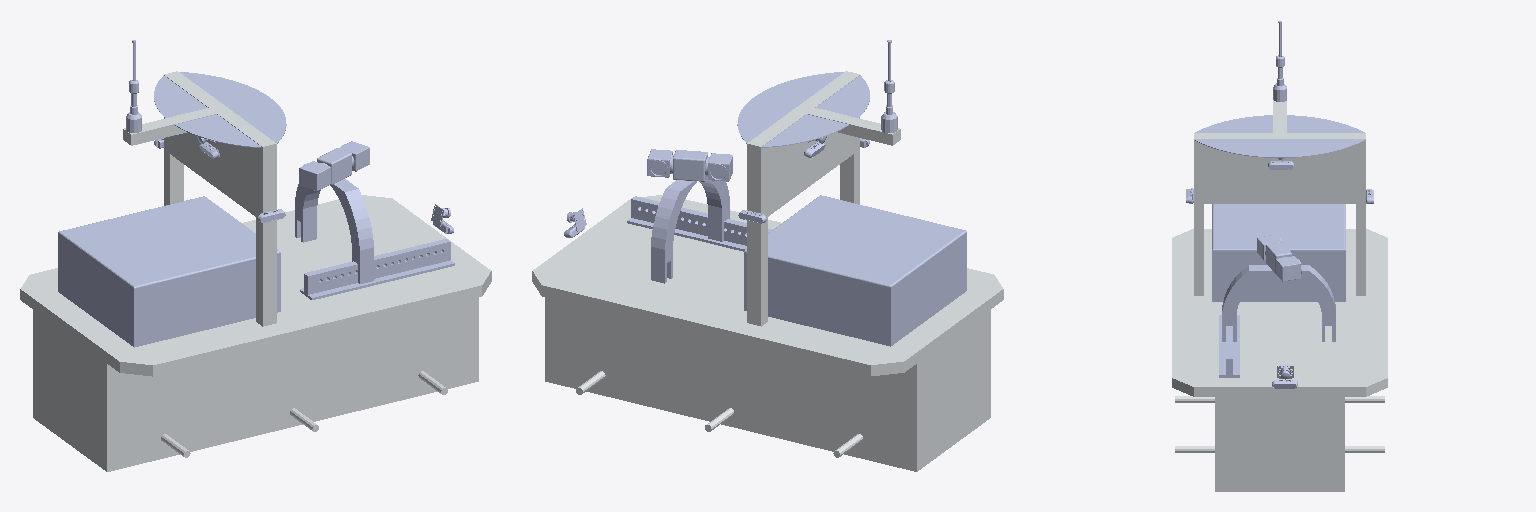
--- Render facts (derived) ---
3 views of the same robot in one strip: view 1: azimuth 30°, elevation 25°; view 2: azimuth 150°, elevation 25°; view 3: azimuth 270°, elevation 25° (orthographic).
Robot: perimeter — 35 links, 34 joints (8 continuous, 26 fixed); root link base_link; default pose: all joints at 0.
Links seen in each view (by area): view 1: base_link, computer, u_shade, left_bar, turret_base, turret_cam_1, turret, antena, turret_cam_2; view 2: base_link, computer, u_shade, turret_base, left_bar, turret, turret_cam_1, antena, turret_cam_2; view 3: base_link, computer, u_shade, turret_base, left_bar, turret_cam_2, antena.
Link boxes in pixels (<box>): base_link: <box>20,71,491,471</box>; computer: <box>58,196,280,347</box>; u_shade: <box>154,72,286,147</box>; left_bar: <box>300,239,454,299</box>; turret_base: <box>295,179,373,283</box>; turret_cam_1: <box>299,161,330,190</box>; turret: <box>317,148,351,184</box>; antena: <box>126,40,141,132</box>; turret_cam_2: <box>339,141,369,171</box>; base_link: <box>532,71,1003,471</box>; computer: <box>744,195,966,346</box>; u_shade: <box>737,72,869,147</box>; turret_base: <box>651,176,729,283</box>; left_bar: <box>627,196,771,251</box>; turret: <box>673,150,707,181</box>; turret_cam_1: <box>705,153,732,181</box>; antena: <box>881,40,897,132</box>; turret_cam_2: <box>647,149,673,177</box>; base_link: <box>1172,100,1387,491</box>; computer: <box>1212,204,1345,301</box>; u_shade: <box>1194,115,1365,157</box>; turret_base: <box>1222,265,1335,341</box>; left_bar: <box>1219,315,1239,377</box>; turret_cam_2: <box>1276,256,1301,281</box>; antena: <box>1273,21,1286,101</box>.
Size in the robot's own frame: 1.36 by 0.7622 by 1.32 metres.
17 mesh visuals loaded from 15 distinct referenced files (9 binary STL, 1 Collada DAE); not drawn: 9 (reference not matched to a file when rendering).

URDF robot description (perimeter):
<?xml version="1.0" encoding="utf-8"?>
<robot
  name="perimeter">
  <link
    name="base_link">
    <inertial>
      <origin
        xyz="0 0 0.2"
        rpy="0 0 0" />
      <mass
        value="10" />
      <inertia
        ixx="0.01"
        ixy="0"
        ixz="0"
        iyy="0.01"
        iyz="0"
        izz="0.01" />
    </inertial>
    <visual>
      <origin
        xyz="0 0 0.2"
        rpy="0 0 0" />
      <geometry>
        <mesh
          filename="package://perimeter/meshes/base_link.dae" />
      </geometry>
      <material
        name="">
        <color
          rgba="0.898039215686275 0.917647058823529 0.929411764705882 1" />
      </material>
    </visual>
    <collision>
      <origin
        xyz="0 0 0.2"
        rpy="0 0 0" />
      <geometry>
        <box size="1.2 0.5 0.3" />
        <!--box size="1.32116 0.762207 0.51628 " /-->
      </geometry>
    </collision>
  </link>

  <link
    name="front_right">
    <inertial>
      <origin
        xyz="0 0 0"
        rpy="0 0 0" />
      <mass
        value="0.5" />
      <inertia
        ixx="0.01"
        ixy="0"
        ixz="0"
        iyy="0.01"
        iyz="0"
        izz="0.01" />
    </inertial>
    <visual>
      <origin
        xyz="0 0 0"
        rpy="0 0 0" />
      <geometry>
        <mesh
          filename="package://perimeter/meshes/right_tyre.stl" />
      </geometry>
      <material
        name="">
        <color
          rgba="0.792156862745098 0.819607843137255 0.933333333333333 1" />
      </material>
    </visual>
    <collision>
      <origin
        xyz="0 0 0"
        rpy="0 1.57 1.57" />
      <geometry>
	  <cylinder length="0.156978" radius="0.1933135"/>
      </geometry>
    </collision>
  </link>
  <joint
    name="front_right_joint"
    type="continuous">
    <origin
      xyz="-0.457 0.31 0.217"
      rpy="0 0 0" />
    <parent
      link="base_link" />
    <child
      link="front_right" />
    <axis
      xyz="0 1 0" />
  </joint>

  <link
    name="front_left">
    <inertial>
      <origin
        xyz="0 0 0"
        rpy="0 0 0" />
      <mass
        value="0.5" />
      <inertia
        ixx="0.01"
        ixy="0"
        ixz="0"
        iyy="0.01"
        iyz="0"
        izz="0.01"/>
    </inertial>
    <visual>
      <origin
        xyz="0 0 0"
        rpy="0 0 0" />
      <geometry>
        <mesh
          filename="package://perimeter/meshes/left_tyre.stl" />
      </geometry>
      <material
        name="">
        <color
          rgba="0.792156862745098 0.819607843137255 0.933333333333333 1" />
      </material>
    </visual>
    <collision>
      <origin
        xyz="0 0 0"
        rpy="0 1.57 1.57" />
      <geometry>
	  <cylinder length="0.156978" radius="0.1933135"/>
      </geometry>
    </collision>
  </link>
  <joint
    name="front_left_joint"
    type="continuous">
    <origin
      xyz="-0.457 -0.312 0.217"
      rpy="0 0 0" />
    <parent
      link="base_link" />
    <child
      link="front_left" />
    <axis
      xyz="0 1 0" />
  </joint>
  <link
    name="middle_right">
    <inertial>
      <origin
        xyz="0 0 0"
        rpy="0 0 0" />
      <mass
        value="0.5" />
      <inertia
        ixx="0.01"
        ixy="0"
        ixz="0"
        iyy="0.01"
        iyz="0"
        izz="0.01" />
    </inertial>
    <visual>
      <origin
        xyz="0 0 0"
        rpy="0 0 0" />
      <geometry>
        <mesh
          filename="package://perimeter/meshes/right_tyre.stl" />
      </geometry>
      <material
        name="">
        <color
          rgba="0.792156862745098 0.819607843137255 0.933333333333333 1" />
      </material>
    </visual>
    <collision>
      <origin
        xyz="0 0 0"
        rpy="0 1.57 1.57" />
      <geometry>
	  <cylinder length="0.156978" radius="0.1933135"/>
      </geometry>
    </collision>
  </link>
  <joint
    name="middle_right_joint"
    type="continuous">
    <origin
      xyz="0 0.31 0.19796"
      rpy="0 0 0" />
    <parent
      link="base_link" />
    <child
      link="middle_right" />
    <axis
      xyz="0 1 0" />
  </joint>
  <link
    name="middle_left">
    <inertial>
      <origin
        xyz="0 0 0"
        rpy="0 0 0" />
      <mass
        value="0.5" />
      <inertia
        ixx="0.01"
        ixy="0"
        ixz="0"
        iyy="0.01"
        iyz="0"
        izz="0.01" />
    </inertial>
    <visual>
      <origin
        xyz="0 0 0"
        rpy="0 0 0" />
      <geometry>
        <mesh
          filename="package://perimeter/meshes/left_tyre.stl" />
      </geometry>
      <material
        name="">
        <color
          rgba="0.792156862745098 0.819607843137255 0.933333333333333 1" />
      </material>
    </visual>
    <collision>
      <origin
        xyz="0 0 0"
        rpy="0 1.57 1.57" />
      <geometry>
	  <cylinder length="0.156978" radius="0.1933135"/>
      </geometry>
    </collision>
  </link>
  <joint
    name="middle_left_joint"
    type="continuous">
    <origin
      xyz="0 -0.312 0.19796"
      rpy="0 0 0" />
    <parent
      link="base_link" />
    <child
      link="middle_left" />
    <axis
      xyz="0 1 0" />
  </joint>
  <link
    name="back_right">
    <inertial>
      <origin
        xyz="0 0 0"
        rpy="0 0 0" />
      <mass
        value="0.5" />
      <inertia
        ixx="0.01"
        ixy="0"
        ixz="0"
        iyy="0.01"
        iyz="0"
        izz="0.01" />
    </inertial>
    <visual>
      <origin
        xyz="0 0 0"
        rpy="0 0 0" />
      <geometry>
        <mesh
          filename="package://perimeter/meshes/right_tyre.stl" />
      </geometry>
      <material
        name="">
        <color
          rgba="0.792156862745098 0.819607843137255 0.933333333333333 1" />
      </material>
    </visual>
    <collision>
      <origin
        xyz="0 0 0"
        rpy="0 1.57 1.57" />
      <geometry>
	  <cylinder length="0.156978" radius="0.1933135"/>
      </geometry>
    </collision>
  </link>
  <joint
    name="back_right_joint"
    type="continuous">
    <origin
      xyz="0.457 0.31 0.217"
      rpy="0 0 0" />
    <parent
      link="base_link" />
    <child
      link="back_right" />
    <axis
      xyz="0 1 0" />
  </joint>
  <link
    name="back_left">
    <inertial>
      <origin
        xyz="0 0 0"
        rpy="0 0 0" />
      <mass
        value="0.5" />
      <inertia
        ixx="0.01"
        ixy="0"
        ixz="0"
        iyy="0.01"
        iyz="0"
        izz="0.01"/>
    </inertial>
    <visual>
      <origin
        xyz="0 0 0"
        rpy="0 0 0" />
      <geometry>
        <mesh
          filename="package://perimeter/meshes/left_tyre.stl" />
      </geometry>
      <material
        name="">
        <color
          rgba="0.792156862745098 0.819607843137255 0.933333333333333 1" />
      </material>
    </visual>
    <collision>
      <origin
        xyz="0 0 0"
        rpy="0 1.57 1.57" />
      <geometry>
	  <cylinder length="0.156978" radius="0.1933135"/>
      </geometry>
    </collision>
  </link>
  <joint
    name="back_left_joint"
    type="continuous">
    <origin
      xyz="0.457 -0.312 0.217"
      rpy="0 0 0"  />
    <parent
      link="base_link" />
    <child
      link="back_left" />
    <axis
      xyz="0 1 0" />
  </joint>
  <link
    name="right_bar">
    <inertial>
      <origin
        xyz="0 0 0"
        rpy="0 0 0" />
      <mass
        value="0.5" />
      <inertia
        ixx="0.01"
        ixy="0"
        ixz="0"
        iyy="0.01"
        iyz="0"
        izz="0.01"/>
    </inertial>
    <visual>
      <origin
        xyz="0 0 0"
        rpy="0 0 0" />
      <geometry>
        <mesh
          filename="package://perimeter/meshes/right_bar.STL" />
      </geometry>
      <material
        name="">
        <color
          rgba="0.792156862745098 0.819607843137255 0.933333333333333 1" />
      </material>
    </visual>
    <collision>
      <origin
        xyz="0 0 0"
        rpy="0 0 0" />
      <geometry>
        <mesh
          filename="package://perimeter/meshes/right_bar.STL" />
      </geometry>
    </collision>
  </link>
  <joint
    name="right_bar_to_base_link"
    type="fixed">
    <origin
      xyz="0.32 0.191 0.55"
      rpy="0 0 0" />
    <parent
      link="base_link" />
    <child
      link="right_bar" />
    <axis
      xyz="0 0 0" />
  </joint>
  <link
    name="left_bar">
    <inertial>
      <origin
        xyz="0 0 0"
        rpy="0 0 0" />
      <mass
        value="0.5" />
      <inertia
        ixx="0.01"
        ixy="0"
        ixz="0"
        iyy="0.01"
        iyz="0"
        izz="0.01" />
    </inertial>
    <visual>
      <origin
        xyz="0 0 0"
        rpy="0 0 0" />
      <geometry>
        <mesh
          filename="package://perimeter/meshes/left_bar.STL" />
      </geometry>
      <material
        name="">
        <color
          rgba="0.792156862745098 0.819607843137255 0.933333333333333 1" />
      </material>
    </visual>
    <collision>
      <origin
        xyz="0 0 0"
        rpy="0 0 0" />
      <geometry>
        <mesh
          filename="package://perimeter/meshes/left_bar.STL" />
      </geometry>
    </collision>
  </link>
  <joint
    name="left_bar_to_base_link"
    type="fixed">
    <origin
      xyz="0.34  -0.2 0.55"
      rpy="0 0 3.14"  />
    <parent
      link="base_link" />
    <child
      link="left_bar" />
    <axis
      xyz="0 0 0" />
  </joint>
  <link
    name="turret_base">
    <inertial>
      <origin
        xyz="0 0 0"
        rpy="0 0 0" />
      <mass
        value="0.5" />
      <inertia
        ixx="0.01"
        ixy="0"
        ixz="0"
        iyy="0.01"
        iyz="0"
        izz="0.01" />
    </inertial>
    <visual>
      <origin
        xyz="0 0 0"
        rpy="0 0 0" />
      <geometry>
        <mesh
          filename="package://perimeter/meshes/turret_base.STL" />
      </geometry>
      <material
        name="">
        <color
          rgba="0.792156862745098 0.819607843137255 0.933333333333333 1" />
      </material>
    </visual>
    <collision>
      <origin
        xyz="0 0 0"
        rpy="0 0 0" />
      <geometry>
        <mesh
          filename="package://perimeter/meshes/turret_base.STL" />
      </geometry>
    </collision>
  </link>
  <joint
    name="turret_base_to_left_bar"
    type="fixed">
    <origin
      xyz="0.0721233224999401 -0.265017680995475 0.0126999999999999"
      rpy="0 0 -1.5707963267949" />
    <parent
      link="left_bar" />
    <child
      link="turret_base" />
    <axis
      xyz="0 0 0" />
  </joint>
  <link
    name="turret">
    <inertial>
      <origin
        xyz="0 0 0"
        rpy="0 0 0" />
      <mass
        value="0.2" />
      <inertia
        ixx="0.01"
        ixy="0"
        ixz="0"
        iyy="0.01"
        iyz="0"
        izz="0.01" />
    </inertial>
    <visual>
      <origin
        xyz="0 0 0"
        rpy="0 0 0" />
      <geometry>
        <mesh
          filename="package://perimeter/meshes/turret.STL" />
      </geometry>
      <material
        name="">
        <color
          rgba="0.792156862745098 0.819607843137255 0.933333333333333 1" />
      </material>
    </visual>
    <collision>
      <origin
        xyz="0 0 0"
        rpy="0 0 0" />
      <geometry>
        <mesh
          filename="package://perimeter/meshes/turret.STL" />
      </geometry>
    </collision>
  </link>
  <joint
    name="turret_joint"
    type="fixed">
    <origin
      xyz="-0.0688975000000001 -0.00975178571428559 0.262110127691648"
      rpy="0 0 1.93006449817936" />
    <parent
      link="turret_base" />
    <child
      link="turret" />
    <axis
      xyz="0 0 1" />
  </joint>

<link
    name="turret_cam_1">
    <inertial>
      <origin
        xyz="0 0 0"
        rpy="0 0 0" />
      <mass
        value="0.2" />
      <inertia
        ixx="0.01"
        ixy="0"
        ixz="0"
        iyy="0.01"
        iyz="0"
        izz="0.01" />
    </inertial>
    <visual>
      <origin
        xyz="0 0 0"
        rpy="0 0 1.57" />
      <geometry>
        <mesh
          filename="package://perimeter/meshes/turret_cam.STL" />
      </geometry>
      <material
        name="">
        <color
          rgba="0.792156862745098 0.819607843137255 0.933333333333333 1" />
      </material>
    </visual>
    <collision>
      <origin
        xyz="0 0 0"
        rpy="0 0 0" />
      <geometry>
        <mesh
          filename="package://perimeter/meshes/turret_cam.STL" />
      </geometry>
    </collision>
  </link>
  <joint
    name="turret_cam_1_joint"
    type="continuous">
    <origin
      xyz="0.05 0 0.052"
      rpy="0 1.57 0" />
    <parent
      link="turret" />
    <child
      link="turret_cam_1" />
    <axis
      xyz="0 0 1" />
  </joint>

<link
    name="turret_cam_2">
    <inertial>
      <origin
        xyz="0 0 0"
        rpy="0 0 0" />
      <mass
        value="0.2" />
      <inertia
        ixx="0.01"
        ixy="0"
        ixz="0"
        iyy="0.01"
        iyz="0"
        izz="0.01" />
    </inertial>
    <visual>
      <origin
        xyz="0 0 0"
        rpy="0 0 1.57" />
      <geometry>
        <mesh
          filename="package://perimeter/meshes/turret_cam.STL" />
      </geometry>
      <material
        name="">
        <color
          rgba="0.792156862745098 0.819607843137255 0.933333333333333 1" />
      </material>
    </visual>
    <collision>
      <origin
        xyz="0 0 0"
        rpy="0 0 0" />
      <geometry>
        <mesh
          filename="package://perimeter/meshes/turret_cam.STL" />
      </geometry>
    </collision>
  </link>
  <joint
    name="turret_cam_2_joint"
    type="continuous">
    <origin
      xyz="-0.05 0 0.052"
      rpy="0 -1.57 0" />
    <parent
      link="turret" />
    <child
      link="turret_cam_2" />
    <axis
      xyz="0 0 1" />
  </joint>

  <link
    name="antena">
    <inertial>
      <origin
        xyz="0 0 0"
        rpy="0 0 0" />
      <mass
        value="0.1" />
      <inertia
        ixx="0.01"
        ixy="0"
        ixz="0"
        iyy="0.01"
        iyz="0"
        izz="0.01" />
    </inertial>
    <visual>
      <origin
        xyz="0 0 0"
        rpy="0 0 0" />
      <geometry>
        <mesh
          filename="package://perimeter/meshes/antena.STL" />
      </geometry>
      <material
        name="">
        <color
          rgba="0.792156862745098 0.819607843137255 0.933333333333333 1" />
      </material>
    </visual>
    <collision>
      <origin
        xyz="0 0 0"
        rpy="0 0 0" />
      <geometry>
          <box size="0.001 0.001 0.001"/>
      </geometry>
    </collision>
  </link>
  <joint
    name="antena_joint"
    type="fixed">
    <origin
      xyz="-0.44 0.025 1.164"
      rpy="0 0 0" />
    <parent
      link="base_link" />
    <child
      link="antena" />
    <axis
      xyz="0 0 0" />
  </joint>

  <link
    name="front_fish_eye">
    <inertial>
      <origin
        xyz="0 0 0"
        rpy="0 0 0" />
      <mass
        value="0.1" />
      <inertia
        ixx="0.01"
        ixy="0"
        ixz="0"
        iyy="0.01"
        iyz="0"
        izz="0.01" />
    </inertial>
    <visual>
      <origin
        xyz="0 0 0"
        rpy="0 0 0" />
      <geometry>
        <mesh
          filename="package://perimeter/meshes/fish_eye.STL" />
      </geometry>
      <material
        name="">
        <color
          rgba="0.792156862745098 0.819607843137255 0.933333333333333 1" />
      </material>
    </visual>
    <collision>
      <origin
        xyz="0 0 0"
        rpy="0 0 0" />
      <geometry>
          <box size="0.001 0.001 0.001"/>
      </geometry>
    </collision>
  </link>
  <joint
    name="front_fish_eye_joint"
    type="fixed">
    <origin
      xyz="0.66 -0.01 .64"
      rpy="3.40339 0 1.57" />
    <parent
      link="base_link" />
    <child
      link="front_fish_eye" />
    <axis
      xyz="0 0 0" />
  </joint>
  
    <joint name="front_fish_eye_optical_joint" type="fixed">
      <origin xyz="0 0 0" rpy="-1.570795 0.0 -1.570795" />
      <parent link="front_fish_eye" />
      <child link="front_fish_eye_optical_frame"/>
    </joint>
  
    <link name="front_fish_eye_optical_frame"/>
    
    <gazebo reference="front_fish_eye">
      <sensor type="camera" name="front_fish_eye_camera_sensor">
        <update_rate>10</update_rate>
        <camera>
          <horizontal_fov>1.570795</horizontal_fov>
          <image>
            <format>R8G8B8</format>
            <width>740</width>
            <height>480</height>
          </image>
          <clip>
            <near>0.01</near>
            <far>100</far>
          </clip>
        </camera>

        <plugin name="front_fish_eye_camera_controller" filename="libgazebo_ros_camera.so">
          <cameraName>front_fish_eye</cameraName>
          <imageTopicName>camera/image</imageTopicName>
          <cameraInfoTopicName>camera/camera_info</cameraInfoTopicName>
          <frameName>front_fish_eye_optical_frame</frameName>
        </plugin>
      </sensor>
    </gazebo>

    <link
    name="front_435">
    <inertial>
      <origin
        xyz="0 0 0"
        rpy="0 0 0" />
      <mass
        value="0.1" />
      <inertia
        ixx="0.01"
        ixy="0"
        ixz="0"
        iyy="0.01"
        iyz="0"
        izz="0.01" />
    </inertial>
    <visual>
      <origin
        xyz="0 0 0"
        rpy="0 0 0" />
      <geometry>
        <mesh
          filename="package://perimeter/meshes/D435.STL" />
      </geometry>
      <material
        name="">
        <color
          rgba="0.792156862745098 0.819607843137255 0.933333333333333 1" />
      </material>
    </visual>
    <collision>
      <origin
        xyz="0 0 0"
        rpy="0 0 0" />
      <geometry>
          <box size="0.001 0.001 0.001"/>
      </geometry>
    </collision>
  </link>
  <joint
    name="front_435_joint"
    type="fixed">
    <origin
      xyz="0.66 -0.03 0.563"
      rpy="1.8326 0 1.57" />
    <parent
      link="base_link" />
    <child
      link="front_435" />
    <axis
      xyz="0 0 0" />
  </joint>

    <joint name="front_435_optical_joint" type="fixed">
      <origin xyz="0 0 0" rpy="-1.570795 0.0 -1.570795" />
      <parent link="front_435" />
      <child link="front_435_optical_frame"/>
    </joint>
  
    <link name="front_435_optical_frame"/>
    
    <gazebo reference="front_435">
      <sensor type="camera" name="front_435_camera_sensor">
        <update_rate>10</update_rate>
        <camera>
          <horizontal_fov>1.570795</horizontal_fov>
          <image>
            <format>R8G8B8</format>
            <width>740</width>
            <height>480</height>
          </image>
          <clip>
            <near>0.01</near>
            <far>100</far>
          </clip>
        </camera>

        <plugin name="front_435_camera_controller" filename="libgazebo_ros_camera.so">
          <cameraName>front_435</cameraName>
          <imageTopicName>camera/image</imageTopicName>
          <cameraInfoTopicName>camera/camera_info</cameraInfoTopicName>
          <frameName>front_435_optical_frame</frameName>
        </plugin>
      </sensor>
    </gazebo>
  
     <link
    name="computer">
    <inertial>
      <origin
        xyz="0 0 0"
        rpy="0 0 0" />
      <mass
        value="4" />
      <inertia
        ixx="0.01"
        ixy="0"
        ixz="0"
        iyy="0.01"
        iyz="0"
        izz="0.01" />
    </inertial>
    <visual>
      <origin
        xyz="0 0 0"
        rpy="0 0 0" />
      <geometry>
        <mesh
          filename="package://perimeter/meshes/computer.STL" />
      </geometry>
      <material
        name="">
        <color
          rgba="0.792156862745098 0.819607843137255 0.933333333333333 1" />
      </material>
    </visual>
    <collision>
      <origin
        xyz="0 0 0"
        rpy="0 0 0" />
      <geometry>
          <box size="0.001 0.001 0.001"/>
      </geometry>
    </collision>
  </link>
  <joint
    name="computer_joint"
    type="fixed">
    <origin
      xyz="-0.31 -0.01 0.55"
      rpy="0 0 0" />
    <parent
      link="base_link" />
    <child
      link="computer" />
    <axis
      xyz="0 0 0" />
  </joint> 

     <link
    name="u_shade">
    <inertial>
      <origin
        xyz="0 0 0"
        rpy="0 0 0" />
      <mass
        value="0.1" />
      <inertia
        ixx="0.01"
        ixy="0"
        ixz="0"
        iyy="0.01"
        iyz="0"
        izz="0.01" />
    </inertial>
    <visual>
      <origin
        xyz="0 0 0"
        rpy="0 0 0" />
      <geometry>
        <mesh
          filename="package://perimeter/meshes/u_shade.STL" />
      </geometry>
      <material
        name="">
        <color
          rgba="0.792156862745098 0.819607843137255 0.933333333333333 1" />
      </material>
    </visual>
    <collision>
      <origin
        xyz="0 0 0"
        rpy="0 0 0" />
      <geometry>
        <mesh
          filename="package://perimeter/meshes/u_shade.STL" />
      </geometry>
    </collision>
  </link>
  <joint
    name="u_shade_joint"
    type="fixed">
    <origin
      xyz="-0.124 0.015 1.16"
      rpy="0 0 0" />
    <parent
      link="base_link" />
    <child
      link="u_shade" />
    <axis
      xyz="0 0 0" />
  </joint>

    

     <link
    name="up_front_fish_eye">
    <inertial>
      <origin
        xyz="0 0 0"
        rpy="0 0 0" />
      <mass
        value="0.1" />
      <inertia
        ixx="0.01"
        ixy="0"
        ixz="0"
        iyy="0.01"
        iyz="0"
        izz="0.01" />
    </inertial>
    <visual>
      <origin
        xyz="0 0 0"
        rpy="0 0 0" />
      <geometry>
        <mesh
          filename="package://perimeter/meshes/fish_eye.STL" />
      </geometry>
      <material
        name="">
        <color
          rgba="0.792156862745098 0.819607843137255 0.933333333333333 1" />
      </material>
    </visual>
    <collision>
      <origin
        xyz="0 0 0"
        rpy="0 0 0" />
      <geometry>
        <mesh
          filename="package://perimeter/meshes/fish_eye.STL" />
      </geometry>
    </collision>
  </link>
  <joint
    name="up_front_fish_eye_joint"
    type="fixed">
    <origin
      xyz="-0.1 0.03 1.1"
      rpy="0 0 -1.57" />
    <parent
      link="base_link" />
    <child
      link="up_front_fish_eye" />
    <axis
      xyz="0 0 0" />
  </joint>

    <joint name="up_front_fish_eye_optical_joint" type="fixed">
      <origin xyz="0 0 0" rpy="-1.570795 0.0 -1.570795" />
      <parent link="up_front_fish_eye" />
      <child link="up_front_fish_eye_optical_frame"/>
    </joint>
  
    <link name="up_front_fish_eye_optical_frame"/>
    
    <gazebo reference="up_front_fish_eye">
      <sensor type="camera" name="up_front_fish_eye_camera_sensor">
        <update_rate>10</update_rate>
        <camera>
          <horizontal_fov>1.570795</horizontal_fov>
          <image>
            <format>R8G8B8</format>
            <width>740</width>
            <height>480</height>
          </image>
          <clip>
            <near>0.01</near>
            <far>100</far>
          </clip>
        </camera>

        <plugin name="up_front_fish_eye_camera_controller" filename="libgazebo_ros_camera.so">
          <cameraName>up_front_fish_eye</cameraName>
          <imageTopicName>camera/image</imageTopicName>
          <cameraInfoTopicName>camera/camera_info</cameraInfoTopicName>
          <frameName>up_front_fish_eye_optical_frame</frameName>
        </plugin>
      </sensor>
    </gazebo>


     <link
    name="up_front_d435">
    <inertial>
      <origin
        xyz="0 0 0"
        rpy="0 0 0" />
      <mass
        value="0.1" />
      <inertia
        ixx="0.01"
        ixy="0"
        ixz="0"
        iyy="0.01"
        iyz="0"
        izz="0.01" />
    </inertial>
    <visual>
      <origin
        xyz="0 0 0"
        rpy="0 0 0" />
      <geometry>
        <mesh
          filename="package://perimeter/meshes/D435.STL" />
      </geometry>
      <material
        name="">
        <color
          rgba="0.792156862745098 0.819607843137255 0.933333333333333 1" />
      </material>
    </visual>
    <collision>
      <origin
        xyz="0 0 0"
        rpy="0 0 0" />
      <geometry>
        <mesh
          filename="package://perimeter/meshes/D435.STL" />
      </geometry>
    </collision>
  </link>
  <joint
    name="up_front_d435_joint"
    type="fixed">
    <origin
      xyz="-0.1 0.05 1.08"
      rpy="-1.57 0 -1.57" />
    <parent
      link="base_link" />
    <child
      link="up_front_d435" />
    <axis
      xyz="0 0 0" />
  </joint>

    <joint name="up_front_d435_optical_joint" type="fixed">
      <origin xyz="0 0 0" rpy="-1.570795 0.0 -1.570795" />
      <parent link="up_front_d435" />
      <child link="up_front_d435_optical_frame"/>
    </joint>
  
    <link name="up_front_d435_optical_frame"/>
    
    <gazebo reference="up_front_d435">
      <sensor type="camera" name="up_front_d435_camera_sensor">
        <update_rate>10</update_rate>
        <camera>
          <horizontal_fov>1.570795</horizontal_fov>
          <image>
            <format>R8G8B8</format>
            <width>740</width>
            <height>480</height>
          </image>
          <clip>
            <near>0.01</near>
            <far>100</far>
          </clip>
        </camera>

        <plugin name="up_front_d435_camera_controller" filename="libgazebo_ros_camera.so">
          <cameraName>up_front_d435</cameraName>
          <imageTopicName>camera/image</imageTopicName>
          <cameraInfoTopicName>camera/camera_info</cameraInfoTopicName>
          <frameName>up_front_d435_optical_frame</frameName>
        </plugin>
      </sensor>
    </gazebo>

     <link
    name="up_front_T265">
    <inertial>
      <origin
        xyz="0 0 0"
        rpy="0 0 0" />
      <mass
        value="0.1" />
      <inertia
        ixx="0.01"
        ixy="0"
        ixz="0"
        iyy="0.01"
        iyz="0"
        izz="0.01" />
    </inertial>
    <visual>
      <origin
        xyz="0 0 0"
        rpy="0 0 0" />
      <geometry>
        <mesh
          filename="package://perimeter/meshes/T265.STL" />
      </geometry>
      <material
        name="">
        <color
          rgba="0.792156862745098 0.819607843137255 0.933333333333333 1" />
      </material>
    </visual>
    <collision>
      <origin
        xyz="0 0 0"
        rpy="0 0 0" />
      <geometry>
        <mesh
          filename="package://perimeter/meshes/T265.STL" />
      </geometry>
    </collision>
  </link>
  <joint
    name="up_front_T265_joint"
    type="fixed">
    <origin
      xyz="-0.1 0.05 1.03"
      rpy="-1.57 0 -1.57" />
    <parent
      link="base_link" />
    <child
      link="up_front_T265" />
    <axis
      xyz="0 0 0" />
  </joint>

    <joint name="up_front_T265_optical_joint" type="fixed">
      <origin xyz="0 0 0" rpy="-1.570795 0.0 -1.570795" />
      <parent link="up_front_T265" />
      <child link="up_front_T265_optical_frame"/>
    </joint>
  
    <link name="up_front_T265_optical_frame"/>
    
    <gazebo reference="up_front_T265">
      <sensor type="camera" name="up_front_T265_camera_sensor">
        <update_rate>10</update_rate>
        <camera>
          <horizontal_fov>1.570795</horizontal_fov>
          <image>
            <format>R8G8B8</format>
            <width>740</width>
            <height>480</height>
          </image>
          <clip>
            <near>0.01</near>
            <far>100</far>
          </clip>
        </camera>

        <plugin name="up_front_T265_camera_controller" filename="libgazebo_ros_camera.so">
          <cameraName>up_front_T265</cameraName>
          <imageTopicName>camera/image</imageTopicName>
          <cameraInfoTopicName>camera/camera_info</cameraInfoTopicName>
          <frameName>up_front_T265_optical_frame</frameName>
        </plugin>
      </sensor>
    </gazebo>

     <link
    name="up_right_d435">
    <inertial>
      <origin
        xyz="0 0 0"
        rpy="0 0 0" />
      <mass
        value="0.1" />
      <inertia
        ixx="0.01"
        ixy="0"
        ixz="0"
        iyy="0.01"
        iyz="0"
        izz="0.01" />
    </inertial>
    <visual>
      <origin
        xyz="0 0 0"
        rpy="0 0 0" />
      <geometry>
        <mesh
          filename="package://perimeter/meshes/D435.STL" />
      </geometry>
      <material
        name="">
        <color
          rgba="0.792156862745098 0.819607843137255 0.933333333333333 1" />
      </material>
    </visual>
    <collision>
      <origin
        xyz="0 0 0"
        rpy="0 0 0" />
      <geometry>
        <mesh
          filename="package://perimeter/meshes/D435.STL" />
      </geometry>
    </collision>
  </link>
  <joint
    name="up_right_d435_joint"
    type="fixed">
    <origin
      xyz="-0.175 .303 0.94"
      rpy="-1.57 0 0" />
    <parent
      link="base_link" />
    <child
      link="up_right_d435" />
    <axis
      xyz="0 0 0" />
  </joint>

    <joint name="up_right_d435_optical_joint" type="fixed">
      <origin xyz="0.05 0.02 0.03" rpy="1.57 -1.57 0" />
      <parent link="up_right_d435" />
      <child link="up_right_d435_optical_frame"/>
    </joint>
  
    <link name="up_right_d435_optical_frame"/>
    
    <gazebo reference="up_right_d435_optical_frame">
      <sensor type="camera" name="up_right_d435_camera_sensor">
        <update_rate>10</update_rate>
        <camera>
          <horizontal_fov>1.570795</horizontal_fov>
          <image>
            <format>R8G8B8</format>
            <width>400</width>
            <height>300</height>
          </image>
          <clip>
            <near>0.01</near>
            <far>100</far>
          </clip>
        </camera>

        <plugin name="up_right_d435_camera_controller" filename="libgazebo_ros_camera.so">
          <cameraName>up_right_d435</cameraName>
          <imageTopicName>camera/image</imageTopicName>
          <cameraInfoTopicName>camera/camera_info</cameraInfoTopicName>
          <frameName>up_right_d435_optical_frame</frameName>
        </plugin>
      </sensor>
    </gazebo>

     <link
    name="up_left_d435">
    <inertial>
      <origin
        xyz="0 0 0"
        rpy="0 0 0" />
      <mass
        value="0.1" />
      <inertia
        ixx="0.01"
        ixy="0"
        ixz="0"
        iyy="0.01"
        iyz="0"
        izz="0.01" />
    </inertial>
    <visual>
      <origin
        xyz="0 0 0"
        rpy="0 0 0" />
      <geometry>
        <mesh
          filename="package://perimeter/meshes/D435.STL" />
      </geometry>
      <material
        name="">
        <color
          rgba="0.792156862745098 0.819607843137255 0.933333333333333 1" />
      </material>
    </visual>
    <collision>
      <origin
        xyz="0 0 0"
        rpy="0 0 0" />
      <geometry>
        <mesh
          filename="package://perimeter/meshes/D435.STL" />
      </geometry>
    </collision>
  </link>
  <joint
    name="up_left_d435_joint"
    type="fixed">
    <origin
      xyz="-0.175 -0.305 0.915"
      rpy="1.57 0 0" />
    <parent
      link="base_link" />
    <child
      link="up_left_d435" />
    <axis
      xyz="0 0 0" />
  </joint>

    <joint name="up_left_d435_optical_joint" type="fixed">
      <origin xyz="0.05 0.01 0.03" rpy="-1.57 -1.57 0" />
      <parent link="up_left_d435" />
      <child link="up_left_d435_optical_frame"/>
    </joint>
  
    <link name="up_left_d435_optical_frame"/>
    
    <gazebo reference="up_left_d435_optical_frame">
      <sensor type="camera" name="up_left_d435_camera_sensor">
        <update_rate>10</update_rate>
        <camera>
          <horizontal_fov>1.570795</horizontal_fov>
          <image>
            <format>R8G8B8</format>
            <width>400</width>
            <height>300</height>
          </image>
          <clip>
            <near>0.01</near>
            <far>100</far>
          </clip>
        </camera>

        <plugin name="up_left_d435_camera_controller" filename="libgazebo_ros_camera.so">
          <cameraName>up_left_d435</cameraName>
          <imageTopicName>camera/image</imageTopicName>
          <cameraInfoTopicName>camera/camera_info</cameraInfoTopicName>
          <frameName>up_left_d435_optical_frame</frameName>
        </plugin>
      </sensor>
    </gazebo>

<link
    name="up_back_fish_eye">
    <inertial>
      <origin
        xyz="0 0 0"
        rpy="0 0 0" />
      <mass
        value="0.1" />
      <inertia
        ixx="0.01"
        ixy="0"
        ixz="0"
        iyy="0.01"
        iyz="0"
        izz="0.01" />
    </inertial>
    <visual>
      <origin
        xyz="0 0 0"
        rpy="0 0 0" />
      <geometry>
        <mesh
          filename="package://perimeter/meshes/fish_eye.STL" />
      </geometry>
      <material
        name="">
        <color
          rgba="0.792156862745098 0.819607843137255 0.933333333333333 1" />
      </material>
    </visual>
    <collision>
      <origin
        xyz="0 0 0"
        rpy="0 0 0" />
      <geometry>
        <mesh
          filename="package://perimeter/meshes/fish_eye.STL" />
      </geometry>
    </collision>
  </link>
  <joint
    name="up_back_fish_eye_joint"
    type="fixed">
    <origin
      xyz="-0.155 -0.03 1.07"
      rpy="-0.261799 0 1.57" />
    <parent
      link="base_link" />
    <child
      link="up_back_fish_eye" />
    <axis
      xyz="0 0 0" />
  </joint>

    <joint name="up_back_fish_eye_optical_joint" type="fixed">
      <origin xyz="0 0 0" rpy="-1.570795 0.0 -1.570795" />
      <parent link="up_back_fish_eye" />
      <child link="up_back_fish_eye_optical_frame"/>
    </joint>
  
    <link name="up_back_fish_eye_optical_frame"/>
    
    <gazebo reference="up_back_fish_eye">
      <sensor type="camera" name="up_back_fish_eye_camera_sensor">
        <update_rate>10</update_rate>
        <camera>
          <horizontal_fov>1.570795</horizontal_fov>
          <image>
            <format>R8G8B8</format>
            <width>740</width>
            <height>480</height>
          </image>
          <clip>
            <near>0.01</near>
            <far>100</far>
          </clip>
        </camera>

        <plugin name="front_cam_camera_controller" filename="libgazebo_ros_camera.so">
          <cameraName>up_back_fish_eye</cameraName>
          <imageTopicName>camera/image</imageTopicName>
          <cameraInfoTopicName>camera/camera_info</cameraInfoTopicName>
          <frameName>up_back_fish_eye_optical_frame</frameName>
        </plugin>
      </sensor>
    </gazebo>

     <link
    name="up_back_d435">
    <inertial>
      <origin
        xyz="0 0 0"
        rpy="0 0 0" />
      <mass
        value="0.1" />
      <inertia
        ixx="0.01"
        ixy="0"
        ixz="0"
        iyy="0.01"
        iyz="0"
        izz="0.01" />
    </inertial>
    <visual>
      <origin
        xyz="0 0 0"
        rpy="0 0 0" />
      <geometry>
        <mesh
          filename="package://perimeter/meshes/D435.STL" />
      </geometry>
      <material
        name="">
        <color
          rgba="0.792156862745098 0.819607843137255 0.933333333333333 1" />
      </material>
    </visual>
    <collision>
      <origin
        xyz="0 0 0"
        rpy="0 0 0" />
      <geometry>
        <mesh
          filename="package://perimeter/meshes/D435.STL" />
      </geometry>
    </collision>
  </link>
  <joint
    name="up_back_d435_joint"
    type="fixed">
    <origin
      xyz="-0.155 -0.05 1.05"
      rpy="-1.8326 0 1.57" />
    <parent
      link="base_link" />
    <child
      link="up_back_d435" />
    <axis
      xyz="0 0 0" />
  </joint>

    <joint name="up_back_d435_optical_joint" type="fixed">
      <origin xyz="0 0 0" rpy="-1.570795 0.0 -1.570795" />
      <parent link="up_back_d435" />
      <child link="up_back_d435_optical_frame"/>
    </joint>
  
    <link name="up_back_d435_optical_frame"/>
    
    <gazebo reference="up_back_d435">
      <sensor type="camera" name="up_back_d435_camera_sensor">
        <update_rate>10</update_rate>
        <camera>
          <horizontal_fov>1.570795</horizontal_fov>
          <image>
            <format>R8G8B8</format>
            <width>740</width>
            <height>480</height>
          </image>
          <clip>
            <near>0.01</near>
            <far>100</far>
          </clip>
        </camera>

        <plugin name="up_back_d435_camera_controller" filename="libgazebo_ros_camera.so">
          <cameraName>up_back_d435</cameraName>
          <imageTopicName>camera/image</imageTopicName>
          <cameraInfoTopicName>camera/camera_info</cameraInfoTopicName>
          <frameName>up_back_d435_optical_frame</frameName>
        </plugin>
      </sensor>
    </gazebo>

     <link
    name="laser">
    <inertial>
      <origin
        xyz="0 0 0"
        rpy="0 0 0" />
      <mass
        value="0.1" />
      <inertia
        ixx="0.01"
        ixy="0"
        ixz="0"
        iyy="0.01"
        iyz="0"
        izz="0.01" />
    </inertial>
    <visual>
      <origin
        xyz="0 0 0"
        rpy="0 0 0" />
      <geometry>
        <mesh
          filename="package://perimeter/meshes/rplidar.stl" />
      </geometry>
      <material
        name="">
        <color
          rgba="0.792156862745098 0.819607843137255 0.933333333333333 1" />
      </material>
    </visual>
    <collision>
      <origin
        xyz="0 0 0"
        rpy="0 0 0" />
      <geometry>
        <mesh
          filename="package://perimeter/meshes/rplidar.stl" />
      </geometry>
    </collision>
  </link>
  <joint
    name="laser_base"
    type="fixed">
    <origin
      xyz="-0.12 0 1.164"
      rpy="0 0 1.57" />
    <parent
      link="base_link" />
    <child
      link="laser" />
    <axis
      xyz="0 0 0" />
  </joint>

  <gazebo reference="laser">
    <sensor type="ray" name="lds_lfcd_sensor">
      <pose>0 0 0 0 0 0</pose>
      <update_rate>5</update_rate>
      <ray>
        <scan>
          <horizontal>
            <samples>360</samples>
            <resolution>1</resolution>
            <min_angle>0.0</min_angle>
            <max_angle>6.28319</max_angle>
          </horizontal>
        </scan>
        <range>
          <min>0.120</min>
          <max>30.0</max>
          <resolution>0.015</resolution>
        </range>
        <noise>
          <type>gaussian</type>
          <mean>0.0</mean>
          <stddev>0.01</stddev>
        </noise>
      </ray>
      <plugin name="gazebo_ros_lds_lfcd_controller" filename="libgazebo_ros_laser.so">
        <topicName>scan</topicName>
        <frameName>laser</frameName>
      </plugin>
    </sensor>
  </gazebo>
 

  <gazebo reference="front_right">
 <material>Gazebo/Grey</material>
</gazebo>

  <gazebo reference="front_left">
 <material>Gazebo/Grey</material>
</gazebo>

  <gazebo reference="middle_right">
 <material>Gazebo/Grey</material>
</gazebo>

  <gazebo reference="middle_left">
 <material>Gazebo/Grey</material>
</gazebo>

  <gazebo reference="back_right">
 <material>Gazebo/Grey</material>
</gazebo>

  <gazebo reference="back_left">
 <material>Gazebo/Grey</material>
</gazebo>

  <gazebo reference="antena">
 <material>Gazebo/PioneerBody</material>
</gazebo>

  <gazebo reference="lidar">
 <material>Gazebo/Blue</material>
</gazebo>

  <gazebo reference="left_bar">
 <material>Gazebo/Indigo</material>
</gazebo>

  <gazebo reference="right_bar">
 <material>Gazebo/Indigo</material>
</gazebo>

  <gazebo reference="base_link">
 <material>Gazebo/Green</material>
</gazebo>

  <gazebo reference="turret_base">
 <material>Gazebo/Purple</material>
</gazebo>

  <gazebo reference="turret">
 <material>Gazebo/Turquoise</material>
</gazebo>

  <gazebo reference="turret">
 <material>Gazebo/Turquoise</material>
</gazebo>

  <gazebo reference="up_front_T265">
 <material>Gazebo/Grey</material>
</gazebo>

  <gazebo reference="up_back_d435">
 <material>Gazebo/Red</material>
</gazebo>

  <gazebo reference="up_front_d435">
 <material>Gazebo/Red</material>
</gazebo>

  <gazebo reference="up_right_d435">
 <material>Gazebo/Red</material>
</gazebo>

  <gazebo reference="up_left_d435">
 <material>Gazebo/Red</material>
</gazebo>

  <gazebo reference="front_435">
 <material>Gazebo/Red</material>
</gazebo>

  <gazebo reference="front_fish_eye">
 <material>Gazebo/DarkYellow</material>
</gazebo>

  <gazebo reference="up_back_fish_eye">
 <material>Gazebo/DarkYellow</material>
</gazebo>

  <gazebo reference="up_front_fish_eye">
 <material>Gazebo/DarkYellow</material>
</gazebo>

  <gazebo reference="u_shade">
 <material>Gazebo/White</material>
</gazebo>

  <gazebo reference="computer">
 <material>Gazebo/Gold</material>
</gazebo>

  <gazebo reference="laser">
 <material>Gazebo/Blue</material>
</gazebo>

    <transmission name="front_right_t" type="SimpleTransmission">
      <type>transmission_interface/SimpleTransmission</type>
      <joint name="front_right_joint">
      <hardwareInterface>hardware_interface/VelocityJointInterface</hardwareInterface>
      </joint>
      <actuator name="front_right_act">
        <mechanicalReduction>1</mechanicalReduction>
      </actuator>
    </transmission>

    <transmission name="front_left_t" type="SimpleTransmission">
      <type>transmission_interface/SimpleTransmission</type>
      <joint name="front_left_joint">
      <hardwareInterface>hardware_interface/VelocityJointInterface</hardwareInterface>
      </joint>
      <actuator name="front_left_act">
        <mechanicalReduction>1</mechanicalReduction>
      </actuator>
    </transmission>

    <transmission name="back_left_t" type="SimpleTransmission">
      <type>transmission_interface/SimpleTransmission</type>
      <joint name="back_left_joint">
      <hardwareInterface>hardware_interface/VelocityJointInterface</hardwareInterface>
      </joint>
      <actuator name="back_left_act">
        <mechanicalReduction>1</mechanicalReduction>
      </actuator>
    </transmission>

    <transmission name="back_right_t" type="SimpleTransmission">
      <type>transmission_interface/SimpleTransmission</type>
      <joint name="back_right_joint">
      <hardwareInterface>hardware_interface/VelocityJointInterface</hardwareInterface>
      </joint>
      <actuator name="back_right_act">
        <mechanicalReduction>1</mechanicalReduction>
      </actuator>
    </transmission>

    <transmission name="middle_left_t" type="SimpleTransmission">
      <type>transmission_interface/SimpleTransmission</type>
      <joint name="middle_left_joint">
      <hardwareInterface>hardware_interface/VelocityJointInterface</hardwareInterface>
      </joint>
      <actuator name="middle_left_act">
        <mechanicalReduction>1</mechanicalReduction>
      </actuator>
    </transmission>

    <transmission name="middle_right_t" type="SimpleTransmission">
      <type>transmission_interface/SimpleTransmission</type>
      <joint name="middle_right_joint">
      <hardwareInterface>hardware_interface/VelocityJointInterface</hardwareInterface>
      </joint>
      <actuator name="middle_right_act" type="SimpleTransmission">
        <mechanicalReduction>1</mechanicalReduction>
      </actuator>
    </transmission>

  <gazebo>
    <plugin name="gazebo_ros_control" filename="libgazebo_ros_control.so">
    </plugin>
  </gazebo>

  <gazebo>
    <plugin name="gps_controller" filename="libhector_gazebo_ros_gps.so">

      <updateRate>40</updateRate>
      <bodyName>base_link</bodyName>
      <frameId>base_link</frameId>
      <topicName>navsat/fix</topicName>
      <velocityTopicName>navsat/vel</velocityTopicName>
      <referenceLatitude>49.9</referenceLatitude>
      <referenceLongitude>8.9</referenceLongitude>
      <referenceHeading>0</referenceHeading>
      <referenceAltitude>0</referenceAltitude>
      <drift>0.0001 0.0001 0.0001</drift>
    </plugin>
  </gazebo>

  <gazebo>
    <plugin name="imu_controller" filename="libhector_gazebo_ros_imu.so">
      <updateRate>50.0</updateRate>
      <bodyName>base_link</bodyName>
      <topicName>imu/data</topicName>
      <accelDrift>0.005 0.005 0.005</accelDrift>
      <accelGaussianNoise>0.005 0.005 0.005</accelGaussianNoise>
      <rateDrift>0.005 0.005 0.005 </rateDrift>
      <rateGaussianNoise>0.005 0.005 0.005 </rateGaussianNoise>
      <headingDrift>0.005</headingDrift>
      <headingGaussianNoise>0.005</headingGaussianNoise>
    </plugin>
  </gazebo>

</robot>
